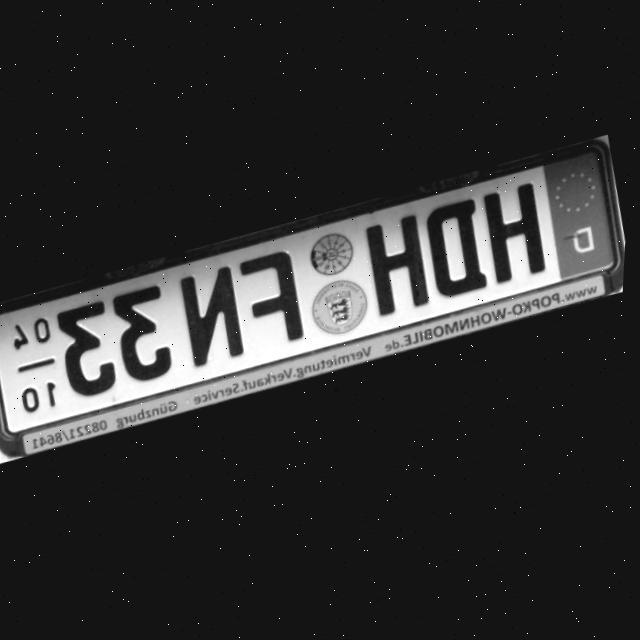license-plates: (0, 150, 616, 435)
